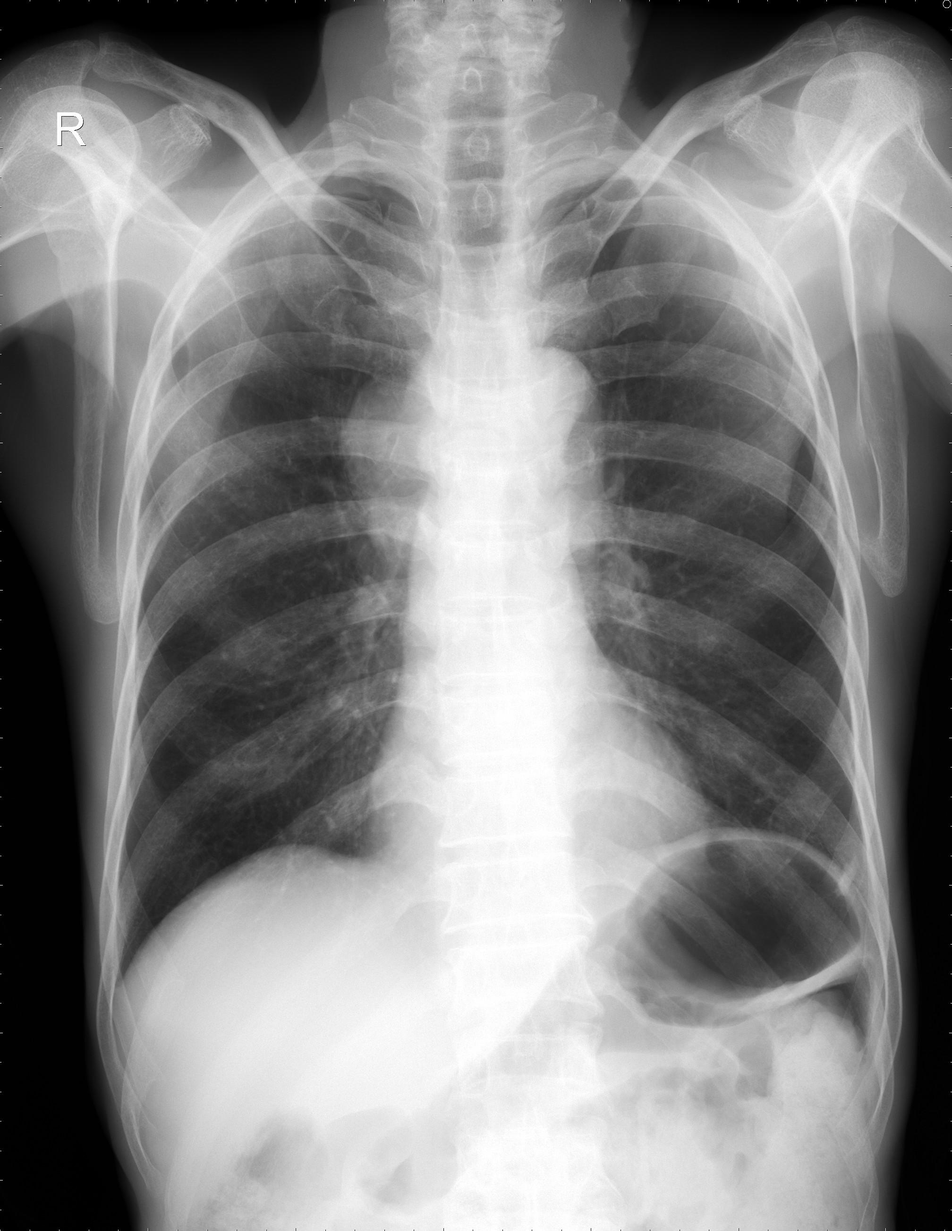Pulmonary fibrosis: (838, 857, 858, 894)
